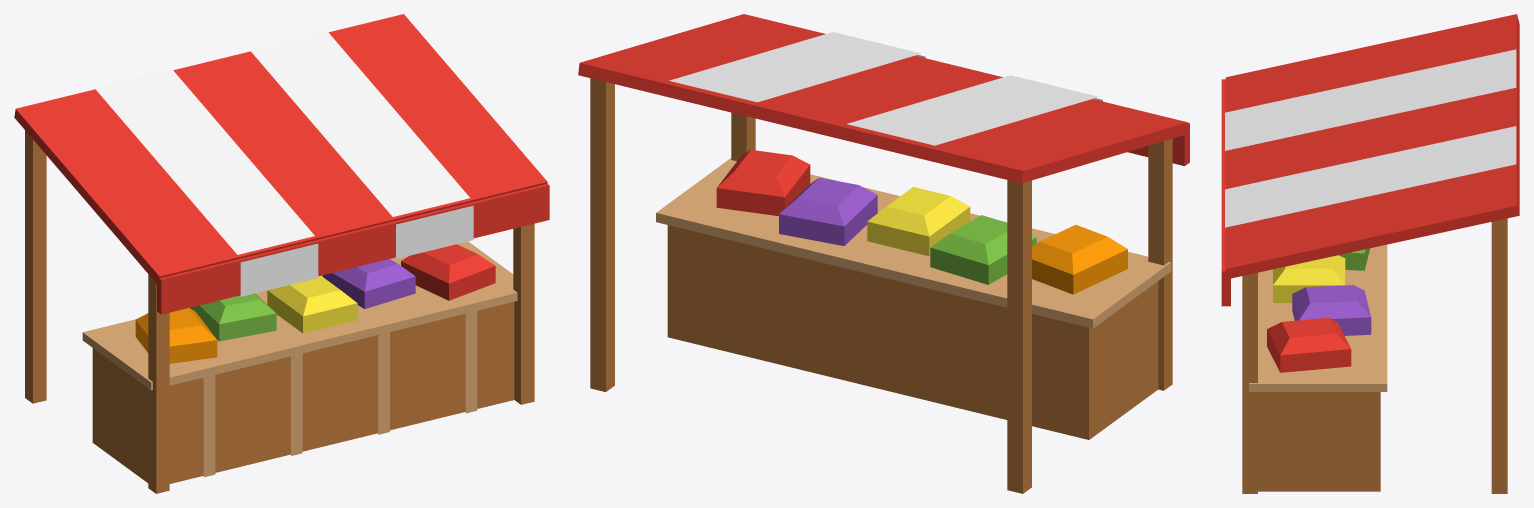
Rendered from market_stall.glb.
3 renders of one model, left to right at view 1: azimuth 30°, elevation 25°; view 2: azimuth 150°, elevation 25°; view 3: azimuth 270°, elevation 25°, orthographic. The views are drawn at different scales.
Visible parts, largest first — view 1: market_stall; view 2: market_stall; view 3: market_stall.
Part boxes in pixels (x1=…): market_stall: x1=14, y1=14, x2=549, y2=493; market_stall: x1=578, y1=14, x2=1189, y2=493; market_stall: x1=1221, y1=14, x2=1519, y2=493.
Bounding box in the file's own units: 0.4 × 0.2856 × 0.2655.
